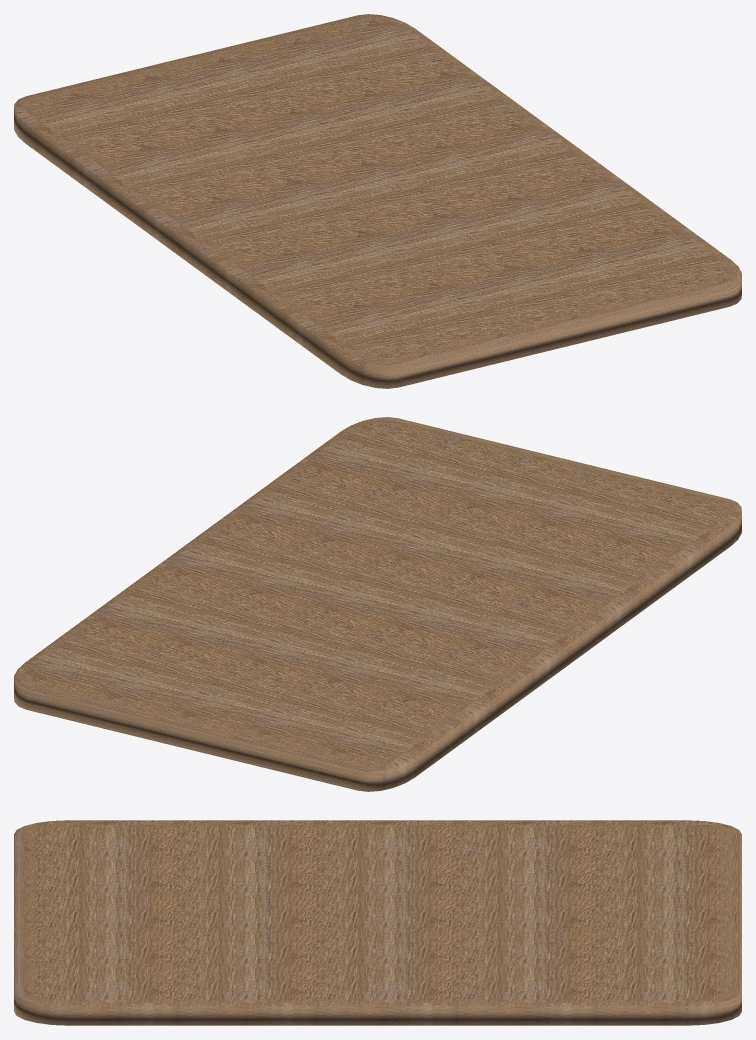
Rendered from deckwhatever.obj.
3 views of the same model, one above another, from view 1: azimuth 30°, elevation 25°; view 2: azimuth 150°, elevation 25°; view 3: azimuth 270°, elevation 25° (orthographic). The views are drawn at different scales.
Parts seen in each view (by area): view 1: Cube; view 2: Cube; view 3: Cube.
Boxes of the visible parts, x1,y1,x2,y2 form: Cube: (14, 14, 741, 388); Cube: (14, 417, 741, 791); Cube: (14, 820, 741, 1025).
Bounding box in the file's own units: 3.6 × 0.2 × 5.94.
